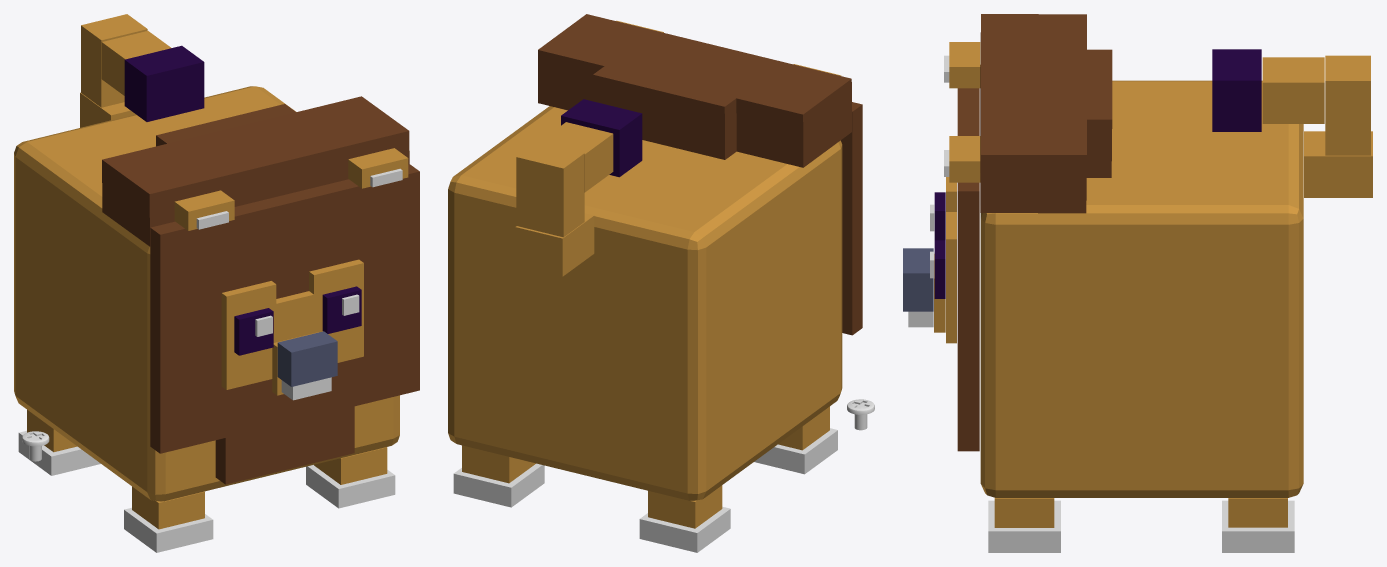
The picture shows the model from 3 angles, left to right: view 1: azimuth 30°, elevation 25°; view 2: azimuth 150°, elevation 25°; view 3: azimuth 270°, elevation 25°; orthographic projection. The views are drawn at different scales.
Visible parts, largest first — view 1: Cube.308, Cube.299, Cube.309, Cube.314, Cube.325, Cube.323, Cube.317, Cube.303, Cube.301, Cube.324, Cube.302, Cube.300 (+9 smaller); view 2: Cube.299, Cube.309, Cube.323, Cube.308, Cube.322, Cube.325, Cube.324, Cube.307, Cube.305, Cube.306, Cube.303, Cube.304 (+2 smaller); view 3: Cube.299, Cube.309, Cube.308, Cube.323, Cube.324, Cube.325, Cube.322, Cube.305, Cube.301, Cube.317, Cube.300, Cube.314 (+5 smaller).
Boxes of the visible parts, bbox=[...] form: Cube.308: bbox=[150, 164, 419, 484]; Cube.299: bbox=[14, 86, 399, 501]; Cube.309: bbox=[102, 96, 409, 246]; Cube.314: bbox=[221, 259, 363, 389]; Cube.325: bbox=[124, 45, 204, 121]; Cube.323: bbox=[81, 14, 147, 107]; Cube.317: bbox=[277, 331, 337, 386]; Cube.303: bbox=[124, 507, 213, 552]; Cube.301: bbox=[306, 465, 395, 508]; Cube.324: bbox=[101, 31, 171, 95]; Cube.302: bbox=[132, 486, 204, 529]; Cube.300: bbox=[314, 447, 387, 484]; Cube.299: bbox=[448, 106, 842, 500]; Cube.309: bbox=[538, 14, 851, 167]; Cube.323: bbox=[516, 141, 584, 237]; Cube.308: bbox=[841, 102, 862, 335]; Cube.322: bbox=[515, 213, 594, 276]; Cube.325: bbox=[561, 99, 642, 177]; Cube.324: bbox=[539, 122, 613, 192]; Cube.307: bbox=[639, 506, 730, 552]; Cube.305: bbox=[453, 463, 544, 507]; Cube.306: bbox=[648, 485, 722, 528]; Cube.303: bbox=[754, 428, 837, 474]; Cube.304: bbox=[462, 445, 535, 483]; Cube.299: bbox=[980, 80, 1303, 497]; Cube.309: bbox=[980, 14, 1112, 213]; Cube.308: bbox=[957, 88, 979, 451]; Cube.323: bbox=[1325, 55, 1370, 155]; Cube.324: bbox=[1262, 57, 1324, 123]; Cube.325: bbox=[1212, 49, 1261, 131]; Cube.322: bbox=[1304, 131, 1372, 197]; Cube.305: bbox=[1222, 500, 1294, 552]; Cube.301: bbox=[988, 500, 1060, 552]; Cube.317: bbox=[903, 248, 933, 311]; Cube.300: bbox=[994, 498, 1054, 527]; Cube.314: bbox=[946, 177, 956, 343].
Size of the model in its own units: 27.47 by 30.02 by 30.19.
